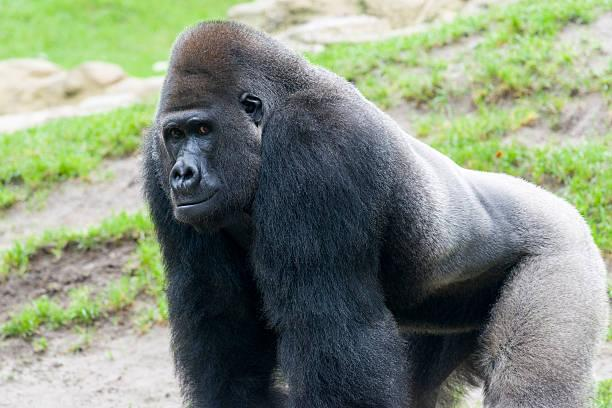gorille_Autres: (117, 7, 603, 408)
